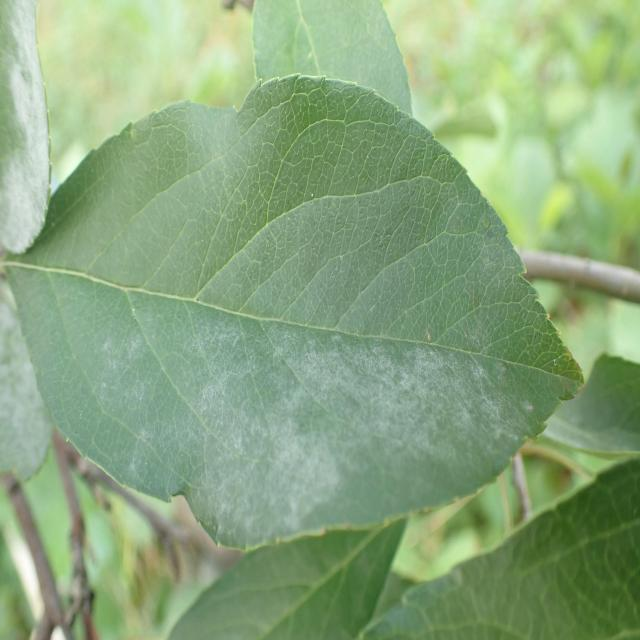Powdery_mildew: (18, 68, 603, 574), (0, 0, 80, 266)
